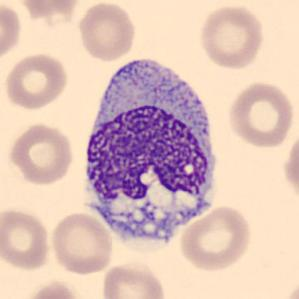Monocyte: (78, 47, 224, 246)
RBC: (177, 204, 253, 272), (225, 78, 296, 150), (196, 2, 266, 71), (6, 121, 74, 187), (48, 210, 115, 276), (3, 51, 70, 111), (76, 0, 138, 63), (0, 205, 52, 272), (100, 259, 168, 299), (15, 0, 82, 26), (0, 1, 23, 67), (281, 129, 299, 206), (20, 277, 82, 299)
